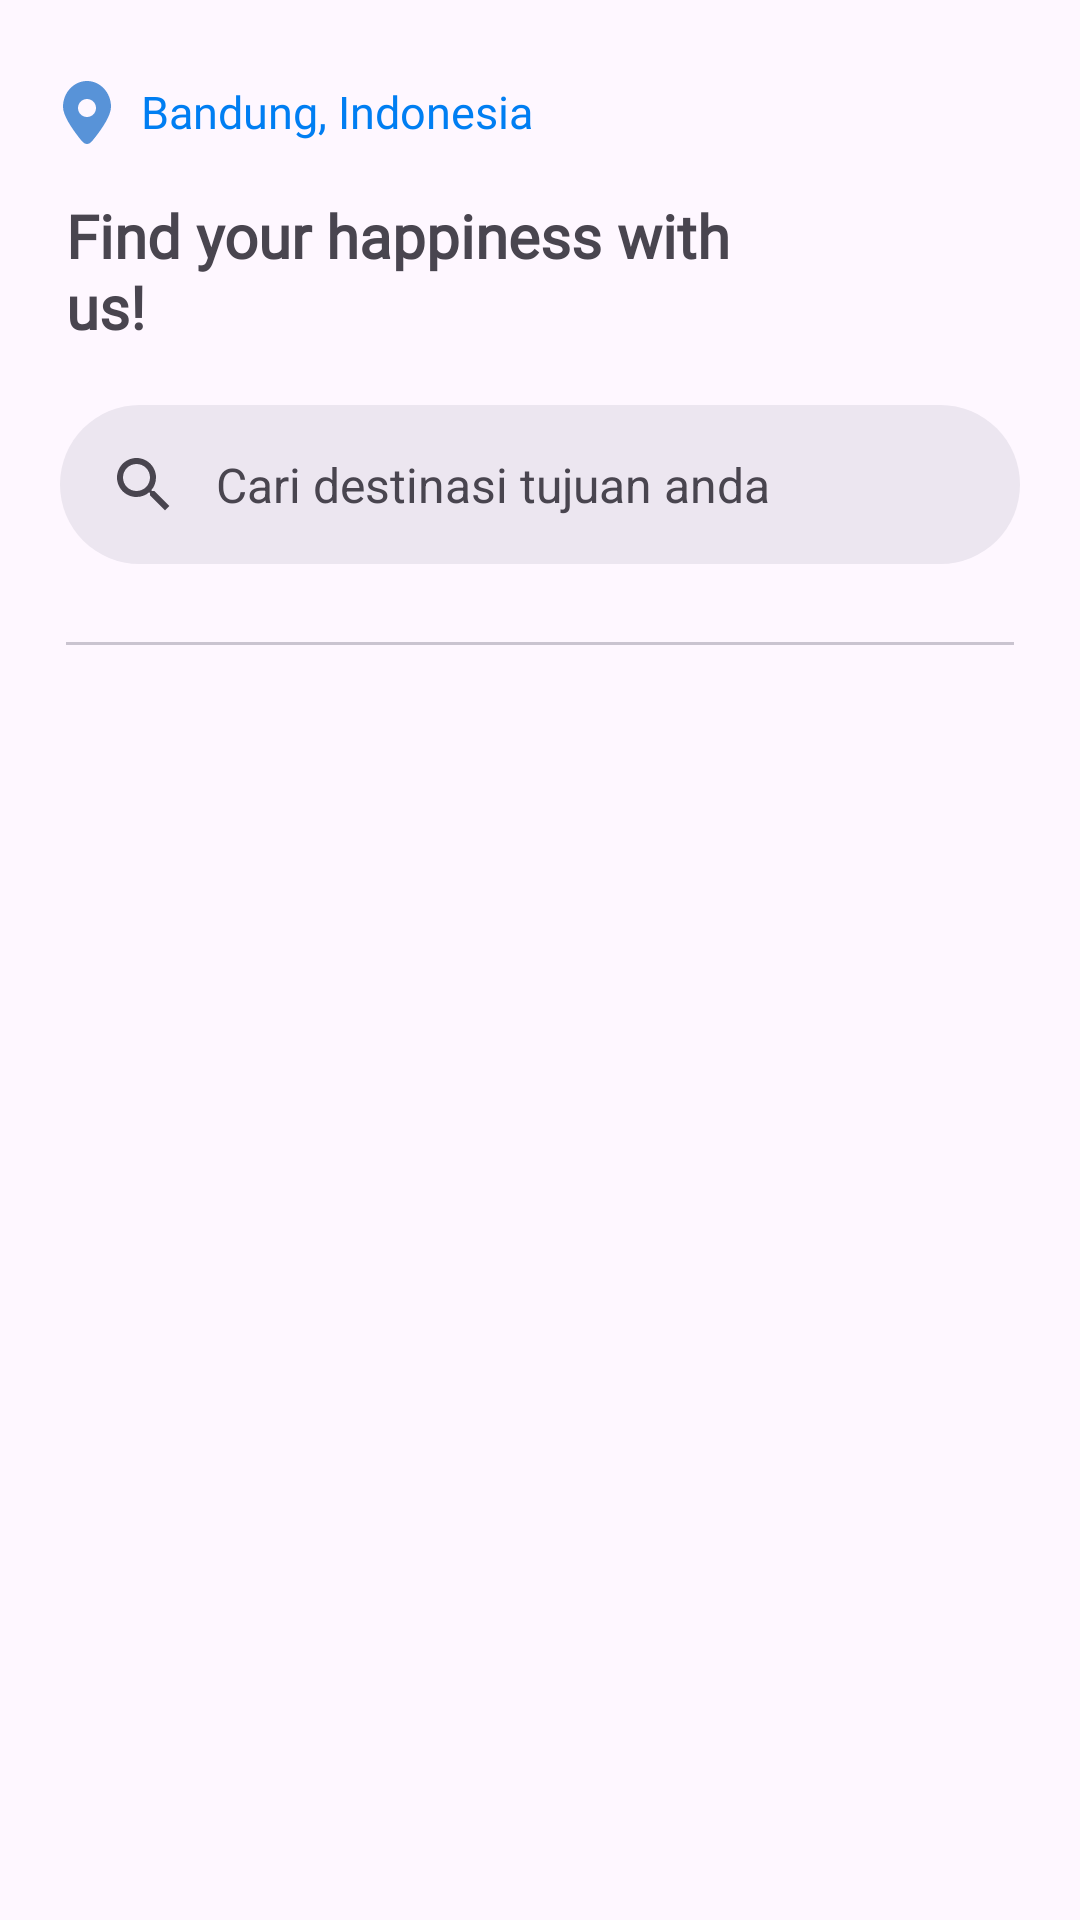

Where icons sit on this 1080px x 1920px app screen, as (x1=x1, y1=y1, x2=x2, y2=y2):
location: (x1=63, y1=81, x2=111, y2=144)
